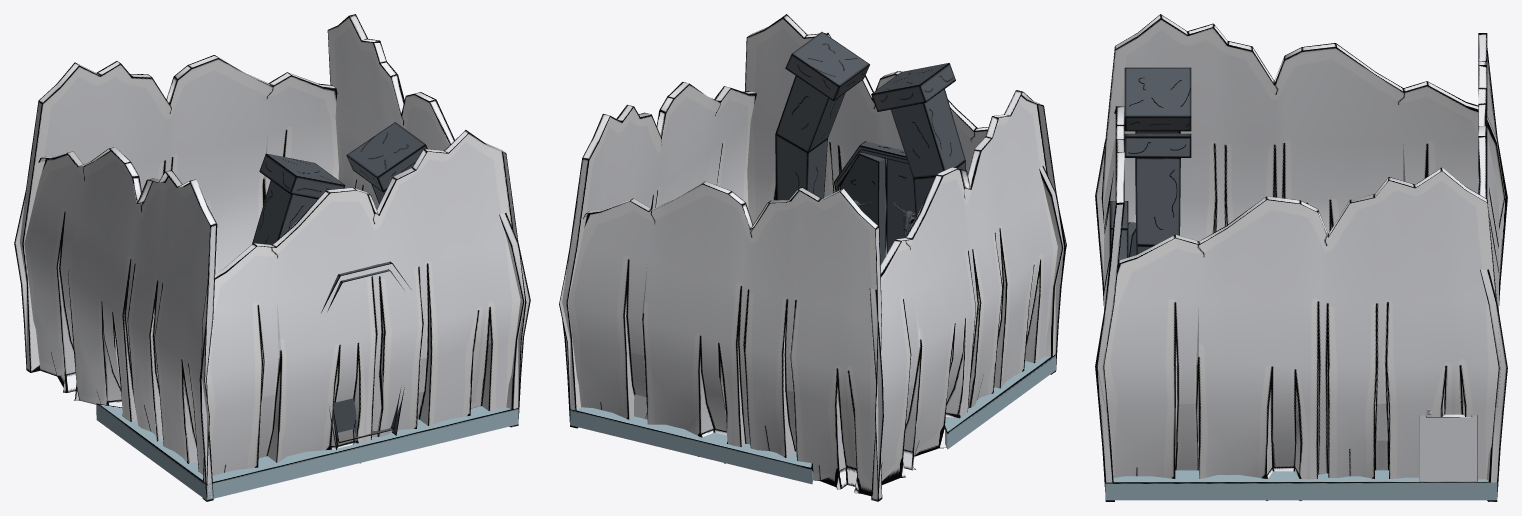
The model's file is Grotte_campement.fbx.
3 views of the same model, side by side, from view 1: azimuth 30°, elevation 25°; view 2: azimuth 150°, elevation 25°; view 3: azimuth 270°, elevation 25° (orthographic). The views are drawn at different scales.
Parts seen in each view (by area): view 1: mur_glace16, mur_glace13, mur_glace14, mur_glace15, sol10, pilier7, pilier6, grande_porte_frame, grande_porteR; view 2: mur_glace14, mur_glace13, mur_glace15, mur_glace16, pilier6, sol10, pilier7, grande_porteL, grande_porteR, grande_porte_frame; view 3: mur_glace15, mur_glace13, sol10, mur_glace14, pilier6, mur_glace16, pilier7, polySurface719, grande_porte_frame.
Boxes of the visible parts, bbox=[...] form: mur_glace16: bbox=[201, 130, 526, 501]; mur_glace13: bbox=[14, 147, 217, 501]; mur_glace14: bbox=[20, 55, 338, 372]; mur_glace15: bbox=[327, 14, 530, 427]; sol10: bbox=[96, 403, 518, 500]; pilier7: bbox=[252, 153, 345, 244]; pilier6: bbox=[346, 122, 427, 204]; grande_porte_frame: bbox=[321, 261, 411, 449]; grande_porteR: bbox=[333, 398, 357, 436]; mur_glace14: bbox=[559, 181, 882, 501]; mur_glace13: bbox=[869, 90, 1065, 501]; mur_glace15: bbox=[562, 82, 756, 428]; mur_glace16: bbox=[745, 14, 1066, 374]; pilier6: bbox=[775, 32, 869, 200]; sol10: bbox=[570, 354, 1055, 484]; pilier7: bbox=[871, 63, 965, 217]; grande_porteL: bbox=[839, 153, 885, 265]; grande_porteR: bbox=[886, 159, 915, 253]; grande_porte_frame: bbox=[834, 141, 908, 191]; mur_glace15: bbox=[1097, 167, 1500, 500]; mur_glace13: bbox=[1101, 14, 1504, 241]; sol10: bbox=[1105, 470, 1497, 500]; mur_glace14: bbox=[1478, 33, 1507, 501]; pilier6: bbox=[1124, 133, 1191, 254]; mur_glace16: bbox=[1095, 106, 1124, 501]; pilier7: bbox=[1124, 67, 1191, 133]; polySurface719: bbox=[1419, 414, 1477, 481]; grande_porte_frame: bbox=[1109, 201, 1128, 260].
Bounding box in the file's own units: 844 × 736 × 843.
